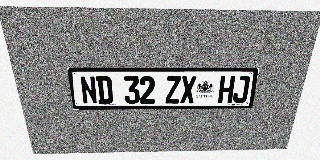2: (140, 76, 155, 104)
3: (124, 76, 140, 104)
D: (96, 76, 113, 104)
H: (218, 76, 235, 103)
J: (232, 76, 251, 103)
N: (79, 76, 98, 104)
X: (180, 76, 196, 103)
Z: (165, 76, 181, 104)
